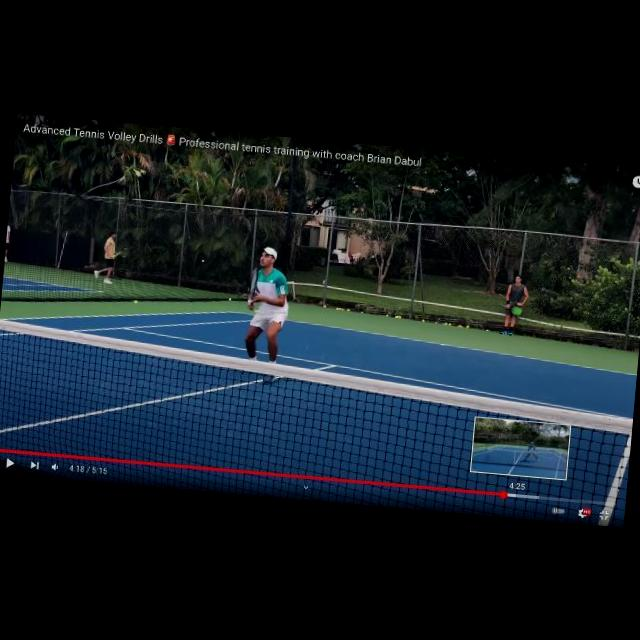Tennis Ball: (134, 300, 137, 304), (444, 322, 447, 325), (466, 326, 469, 329), (228, 297, 230, 300), (398, 316, 401, 318), (422, 320, 424, 323), (324, 304, 326, 306), (338, 308, 340, 310), (335, 308, 337, 310), (346, 308, 348, 310), (394, 316, 396, 318)
